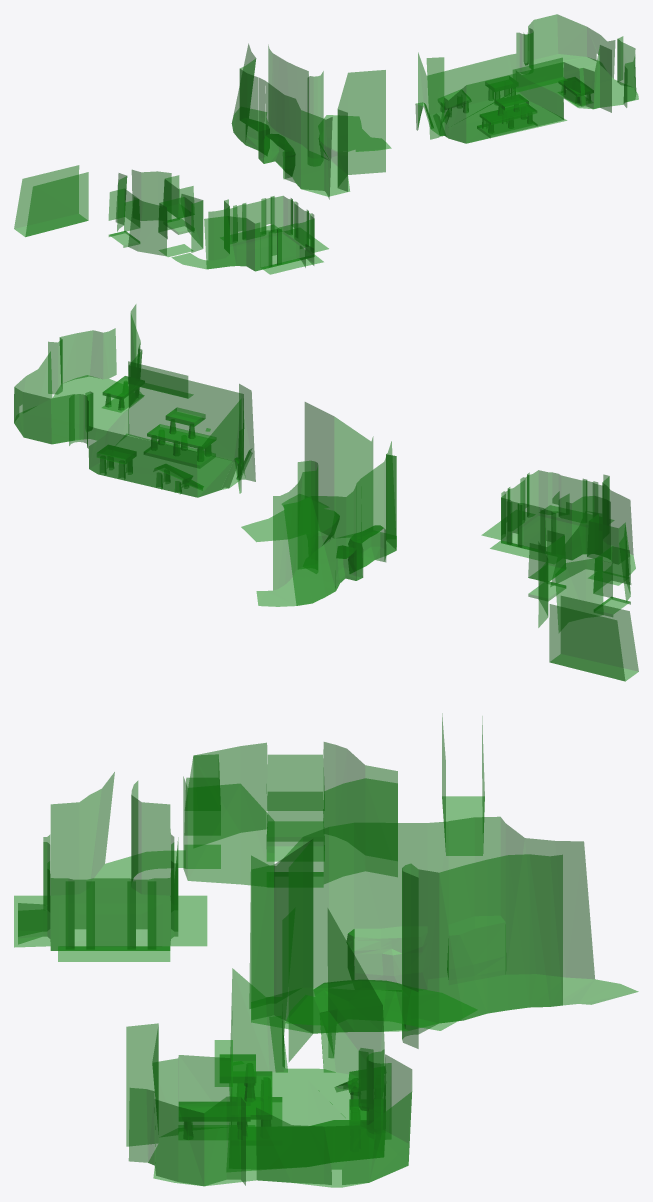
The model's file is stg151_D_cam.obj.
The picture shows the model from 3 angles, top to bottom: view 1: azimuth 30°, elevation 25°; view 2: azimuth 150°, elevation 25°; view 3: azimuth 270°, elevation 25°; orthographic projection. The views are drawn at different scales.
Size of the model in its own units: 232 by 50.49 by 120.
